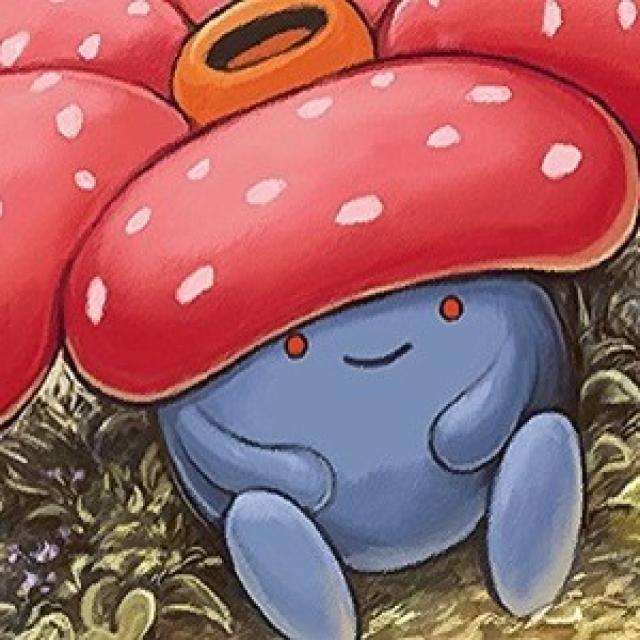Vileplume: (29, 0, 640, 640)
